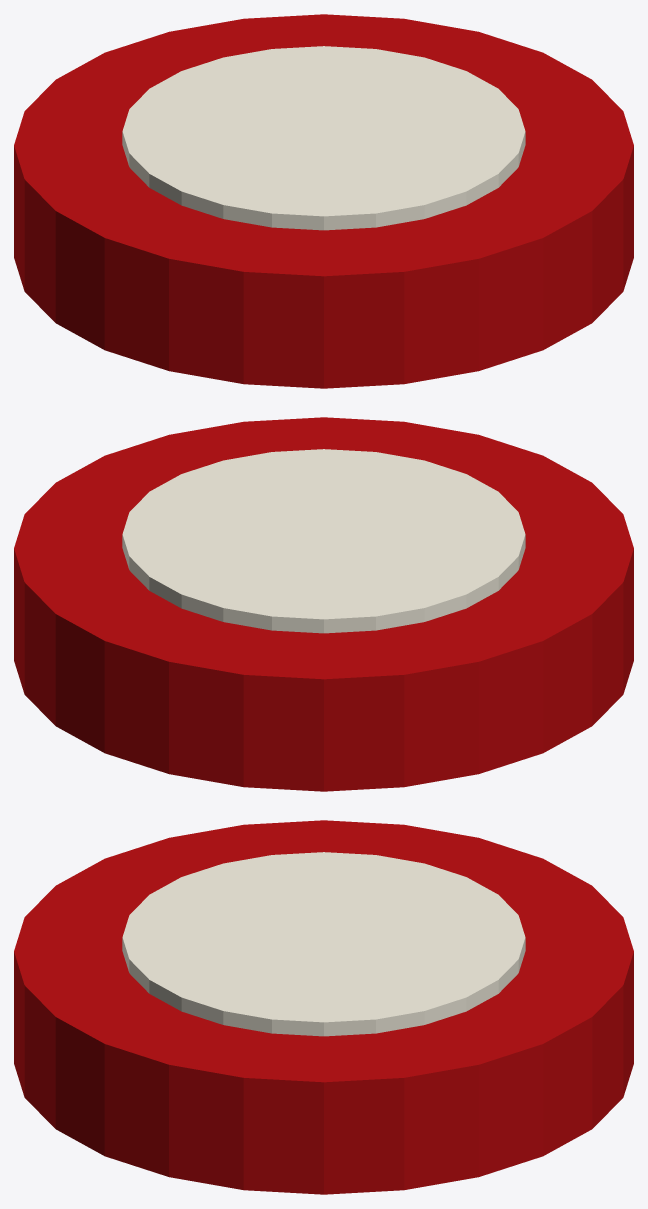
File: Item_OR_Chip_44.glb
The picture shows the model from 3 angles, top to bottom: view 1: azimuth 30°, elevation 25°; view 2: azimuth 150°, elevation 25°; view 3: azimuth 270°, elevation 25°; orthographic projection.
Parts seen in each view (by area): view 1: Item_OR_Chip_44; view 2: Item_OR_Chip_44; view 3: Item_OR_Chip_44.
Part boxes in pixels (left/top/right/bottom): Item_OR_Chip_44: left=14, top=14, right=633, bottom=388; Item_OR_Chip_44: left=14, top=417, right=633, bottom=791; Item_OR_Chip_44: left=14, top=820, right=633, bottom=1194.
Bounding box in the file's own units: 0.04 × 0.009 × 0.04.
